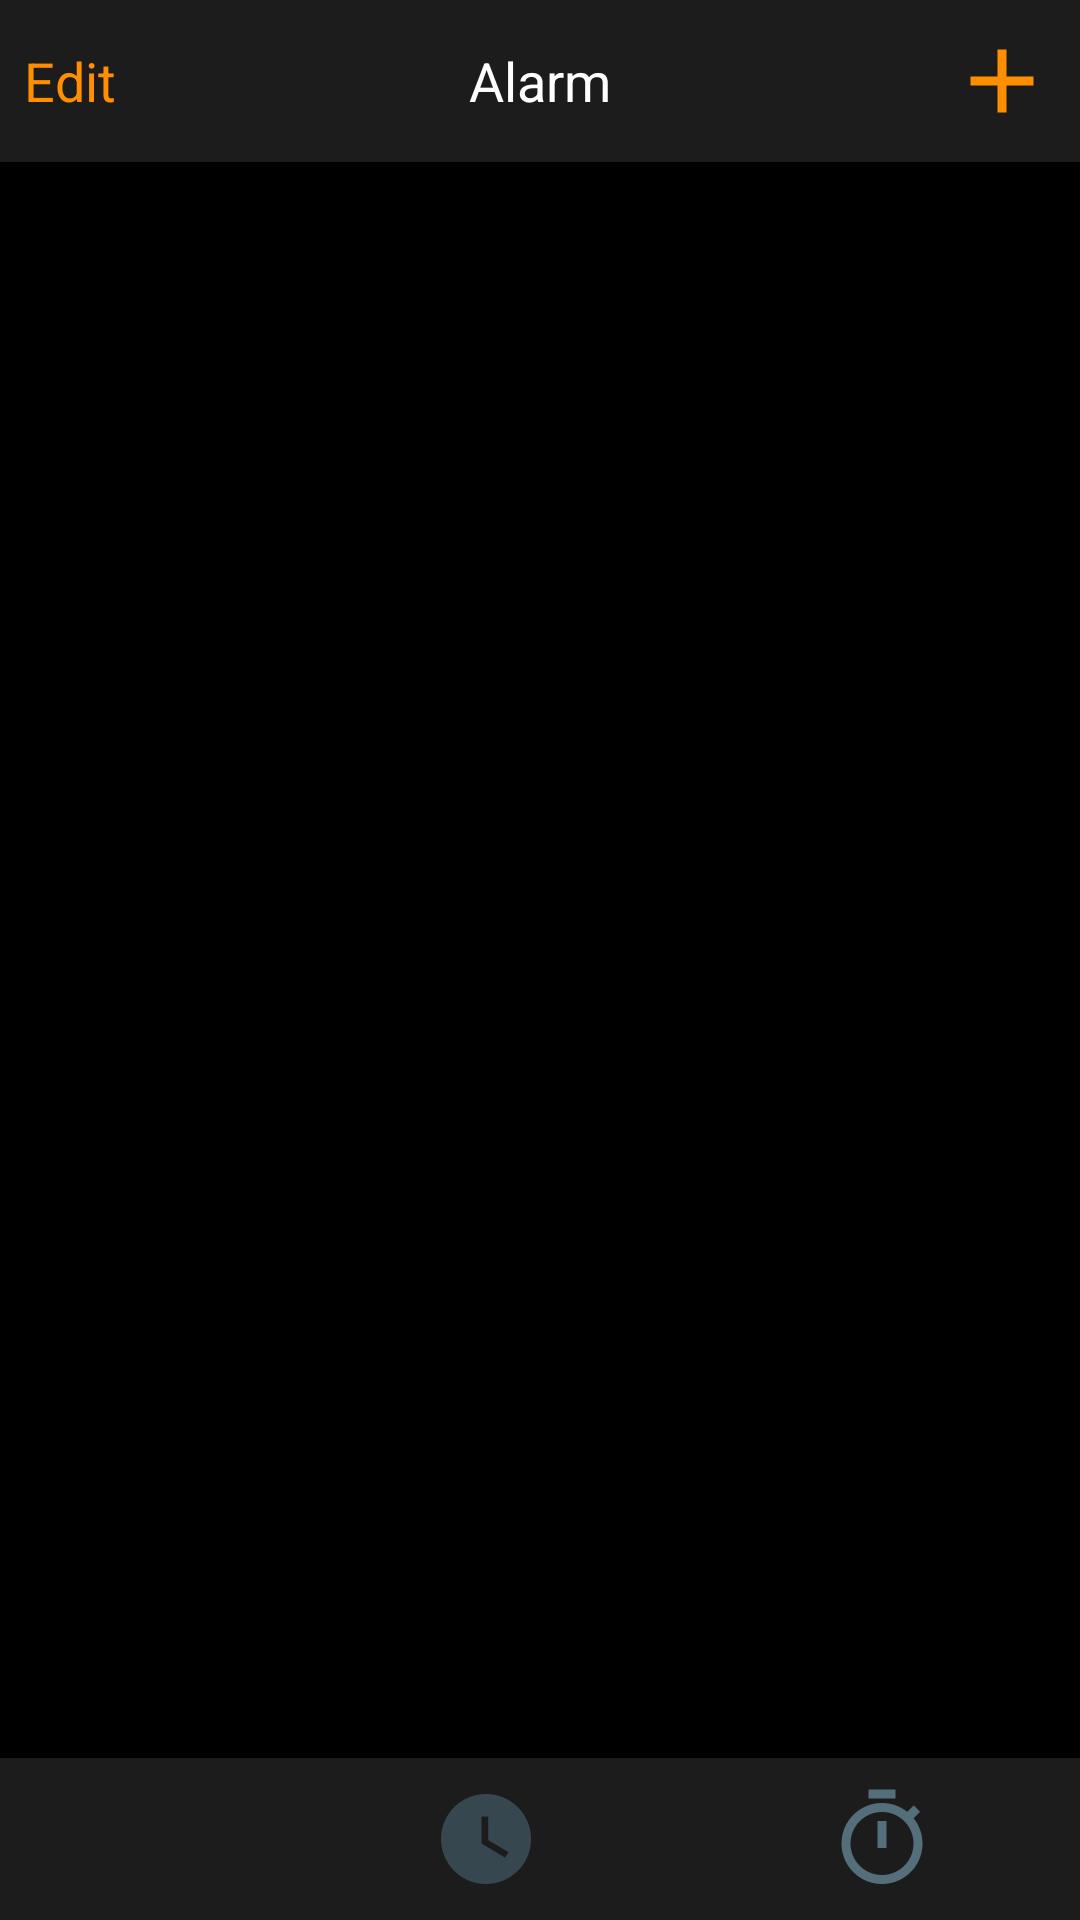

Named icons in this screenshot (1080x1920) and their bounding boxes, (x1, y1, x2, y2):
add: (970, 49, 1034, 113)
timer noclick: (841, 1789, 923, 1884)
